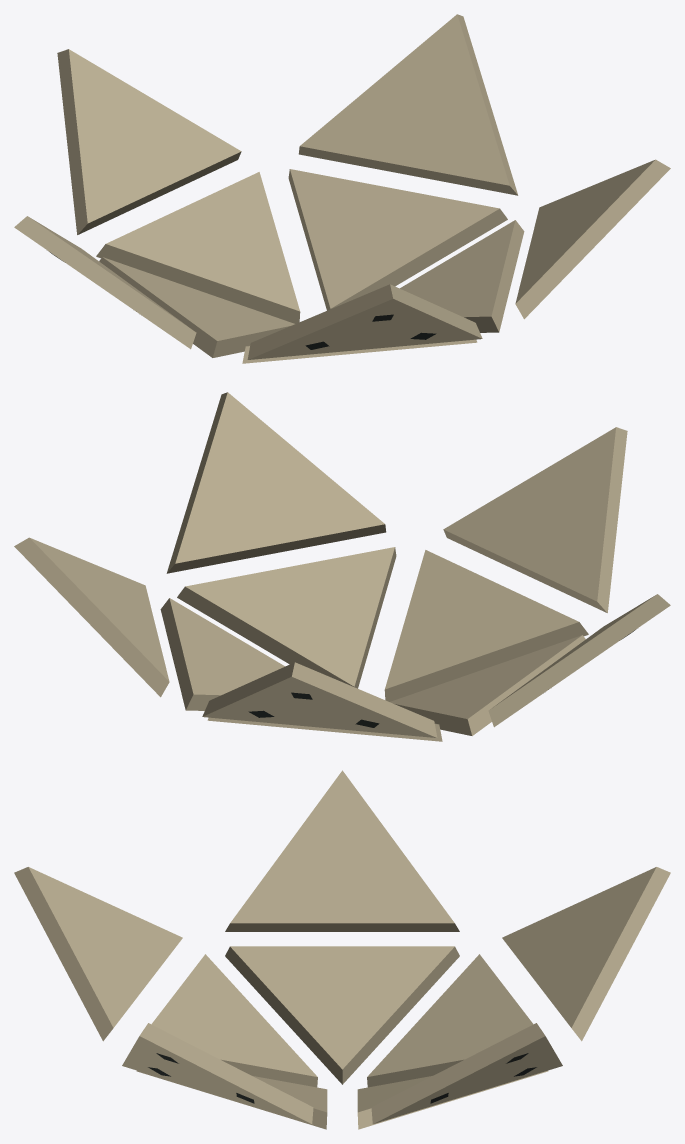
Rendered from shell_kest_c2.glb.
3 renders of one model, top to bottom at view 1: azimuth 30°, elevation 25°; view 2: azimuth 150°, elevation 25°; view 3: azimuth 270°, elevation 25°, orthographic. The views are drawn at different scales.
Parts seen in each view (by area): view 1: Pod; view 2: Pod; view 3: Pod.
Boxes of the visible parts, x1=… form: Pod: x1=14, y1=14, x2=670, y2=363; Pod: x1=14, y1=392, x2=670, y2=741; Pod: x1=14, y1=770, x2=670, y2=1129.
Size of the model in its own units: 1.44 by 0.4724 by 1.51.
